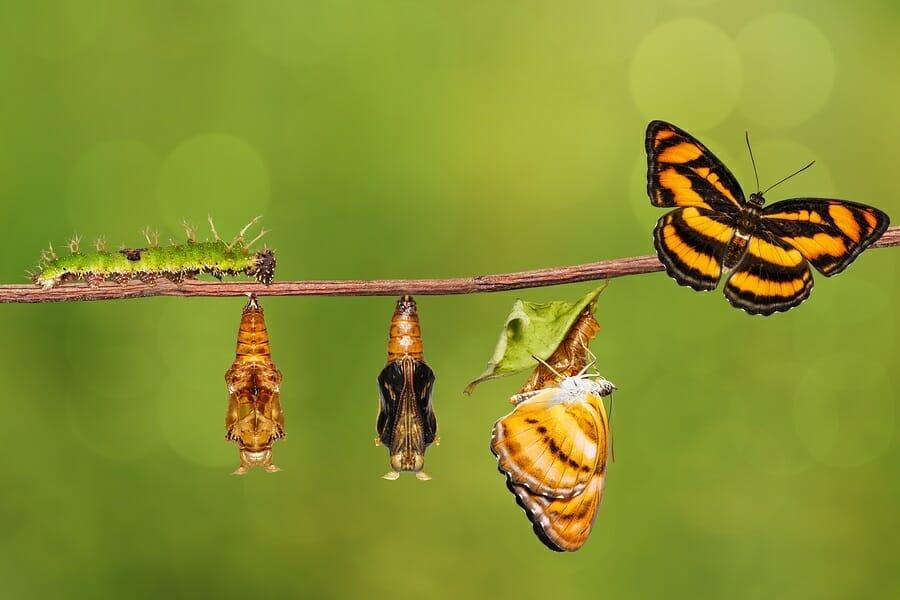Butterfly: (639, 115, 892, 328), (489, 343, 621, 560)
Caterpillar: (24, 211, 289, 292)
